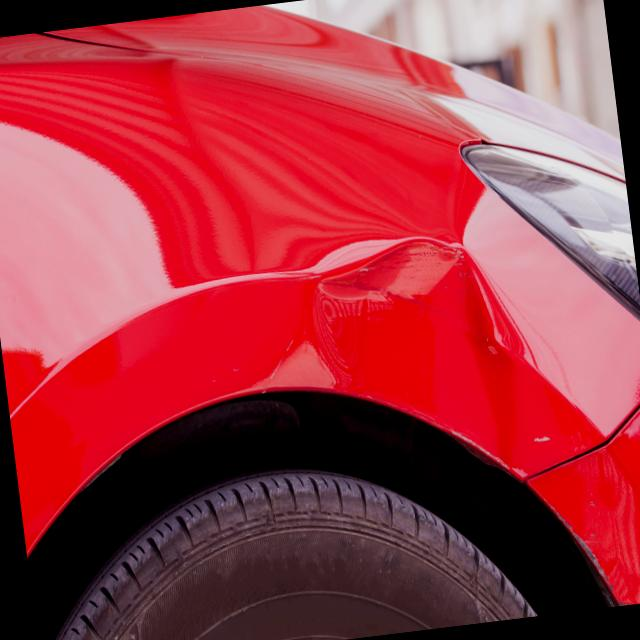Cabossage: (309, 208, 541, 524)
Rayure: (449, 411, 556, 501), (544, 499, 623, 613)
